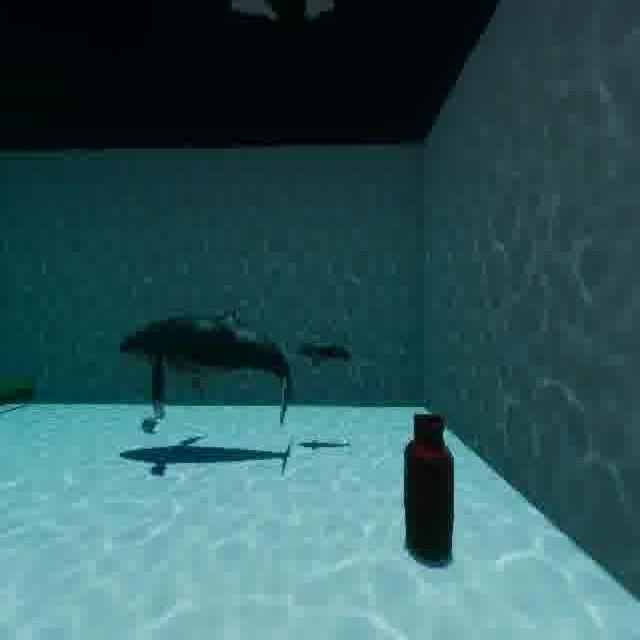Cylinder: (401, 396, 476, 598)
Pipe: (2, 368, 43, 418)
Whale: (115, 318, 311, 440), (290, 306, 370, 388)
